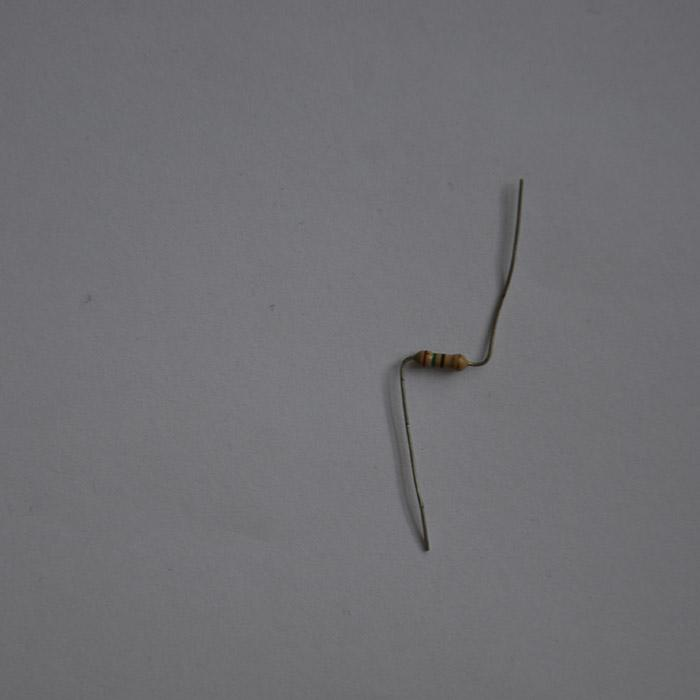resistor: (414, 349, 468, 370)
